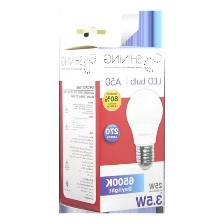carton: (55, 40, 172, 213)
